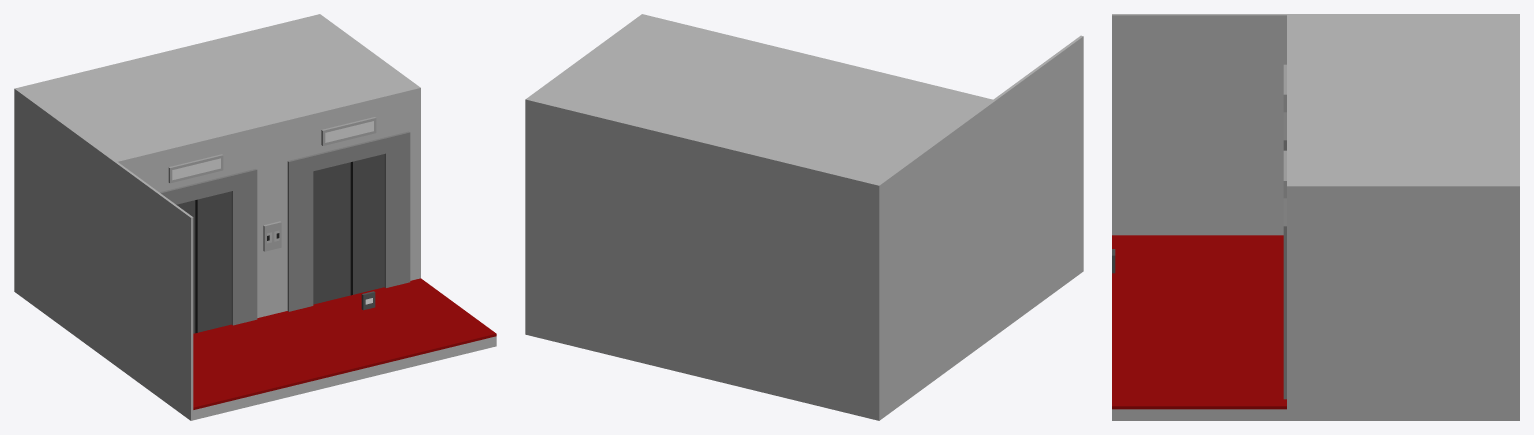
File: 4x2 second-4.obj
The picture shows the model from 3 angles, left to right: view 1: azimuth 30°, elevation 25°; view 2: azimuth 150°, elevation 25°; view 3: azimuth 270°, elevation 25°; orthographic projection. The views are drawn at different scales.
Visible parts, largest first — view 1: 4x2 second-4; view 2: 4x2 second-4; view 3: 4x2 second-4.
Boxes of the visible parts, x1,y1,x2,y2 form: 4x2 second-4: (14,14,496,420); 4x2 second-4: (525,14,1083,420); 4x2 second-4: (1112,14,1519,420).
Bounding box in the file's own units: 126 × 80 × 126.
1 material, 1 textured.
